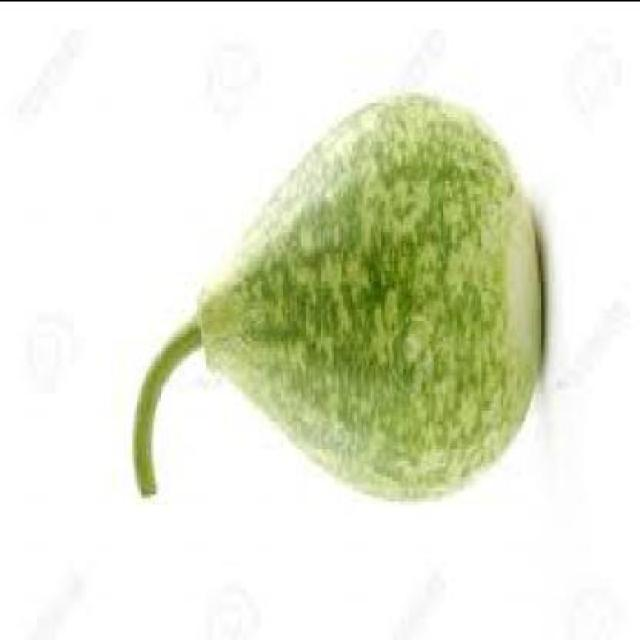BIODEGRADABLE: (130, 91, 533, 494)
